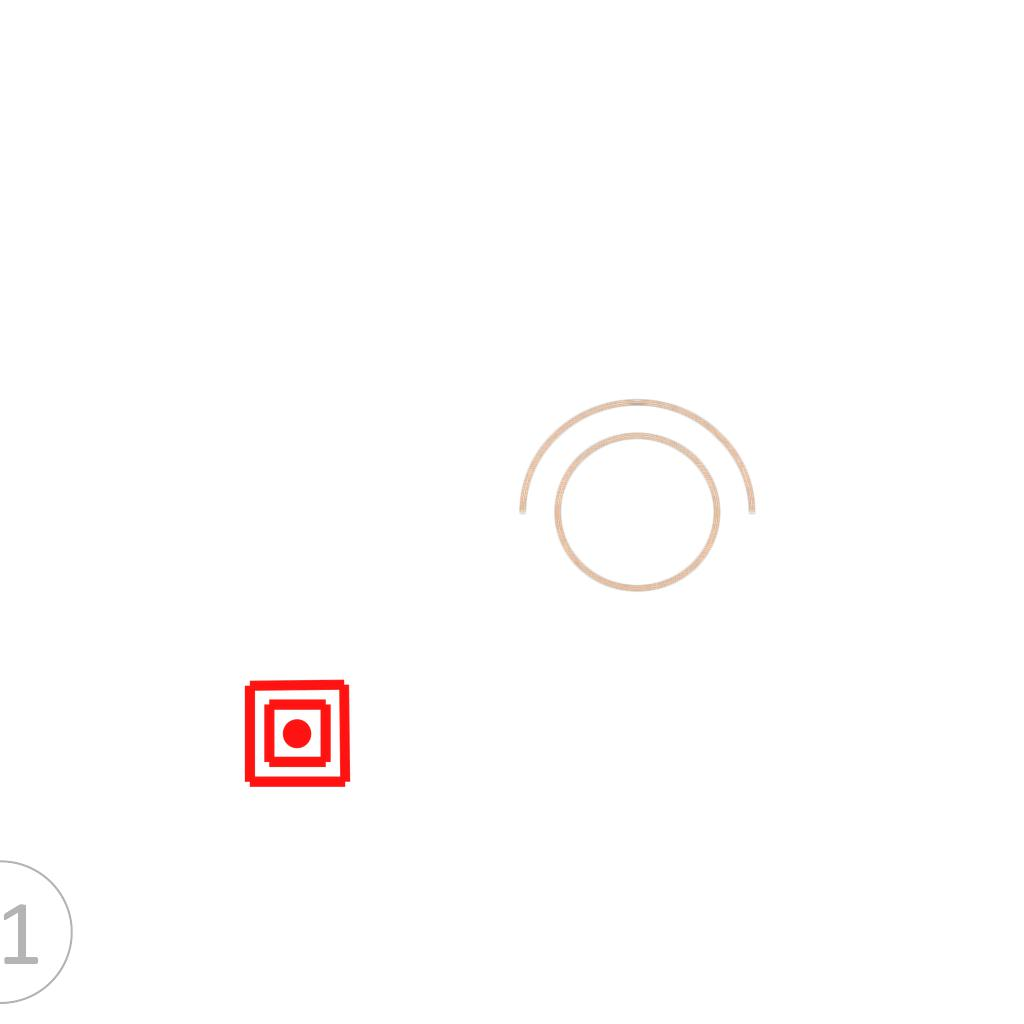NAM-Nichtautomatischer_Melder: (241, 677, 354, 790)
Scheinwerfer_fuer_Alarmbeleuchtung: (499, 390, 763, 615)
